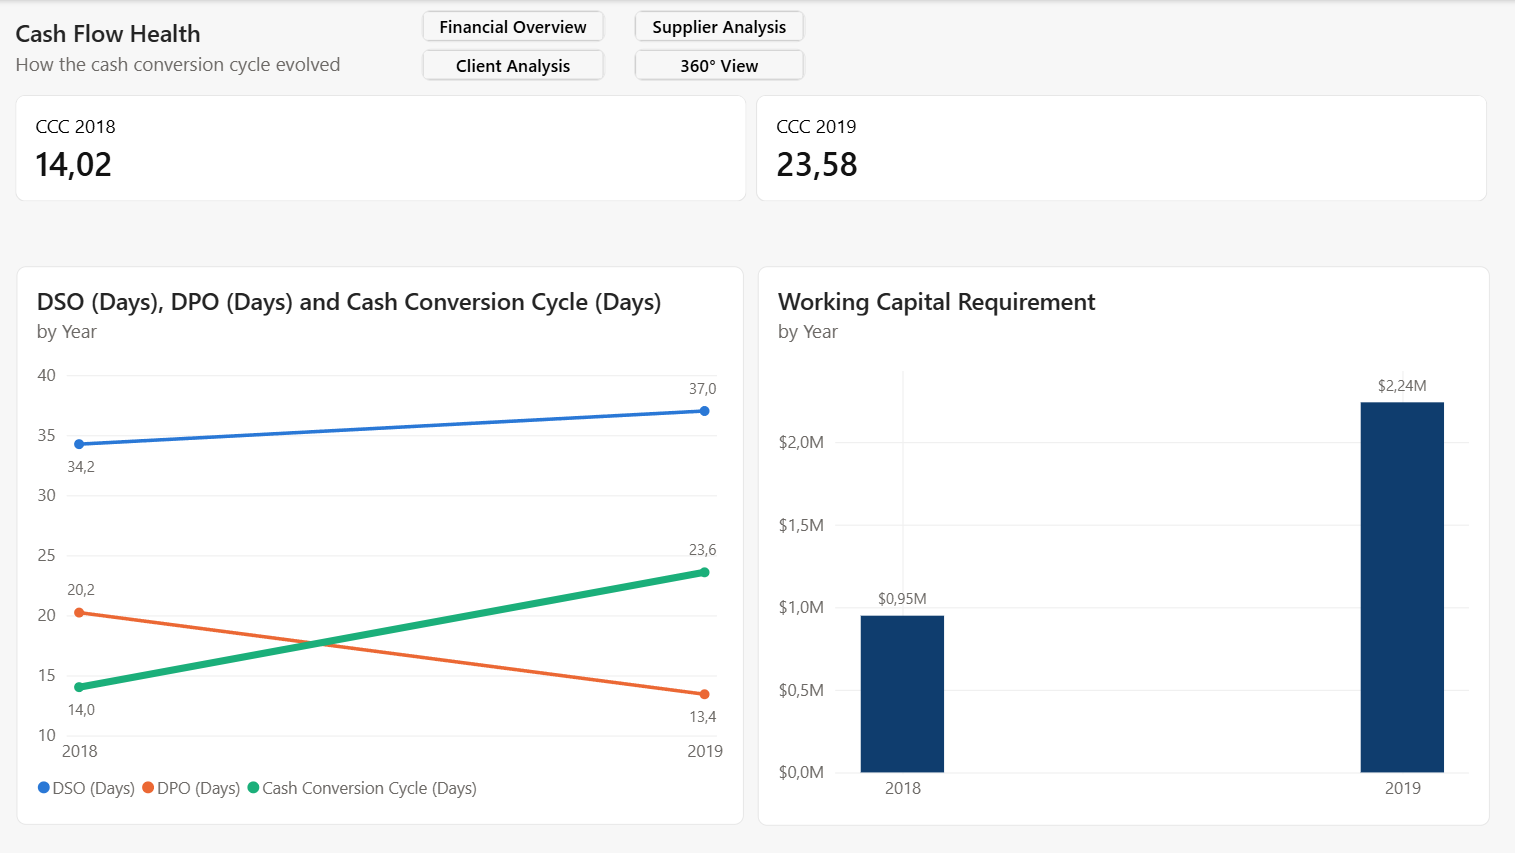

What the dashboard file says about the page in this screenshot:
{"tool":"powerbi","page":{"name":"360° View","canvas":[1280,720],"ordinal":3},"visuals":[{"type":"cardVisual","title":"Cash Flow Health","fields":{"Data":["_measures.CCC 2018","_measures.CCC 2019"]},"box":[14,14,1243.7,156.9],"z":0},{"type":"actionButton","title":"Cash Position","box":[356.4,8.4,155,27.4],"z":1000},{"type":"actionButton","title":"Page 3","box":[535.7,8.4,144.5,27.4],"z":2000},{"type":"actionButton","title":"Page 4","box":[535.7,41.1,144.5,27.4],"z":3000},{"type":"actionButton","title":"Page 2","box":[356.4,41.1,155,27.4],"z":4000},{"type":"lineChart","fields":{"Category":["dmDate.Year"],"Y":["_measures.DSO (Days)","_measures.DPO (Days)","_measures.Cash Conversion Cycle (Days)"]},"box":[14.4,224.1,613.6,471],"z":6000},{"type":"clusteredColumnChart","fields":{"Category":["dmDate.Year"],"Y":["_measures.Working Capital Requirement"]},"box":[640,224.1,617.2,472.2],"z":7000}]}

Visuals, with their boxes in screenshot pixels (x1, y1, x2, y2), scaled from the page's 1280x720 canvas onto the 1515x853 screenshot:
"Cash Flow Health" cardVisual: (17,17,1489,202)
"Cash Position" actionButton: (422,10,605,42)
"Page 3" actionButton: (634,10,805,42)
"Page 4" actionButton: (634,49,805,81)
"Page 2" actionButton: (422,49,605,81)
lineChart - dmDate.Year x _measures.DSO (Days): (17,265,743,824)
clusteredColumnChart - dmDate.Year x _measures.Working Capital Requirement: (758,265,1488,825)
